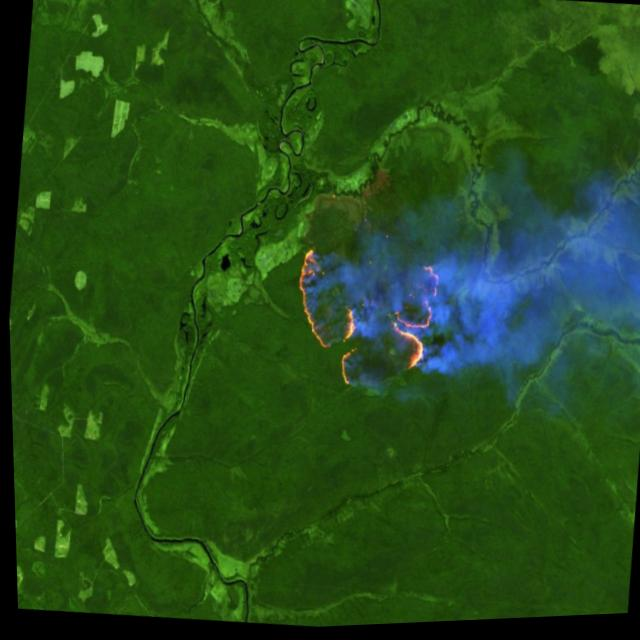fire: (278, 231, 447, 406)
